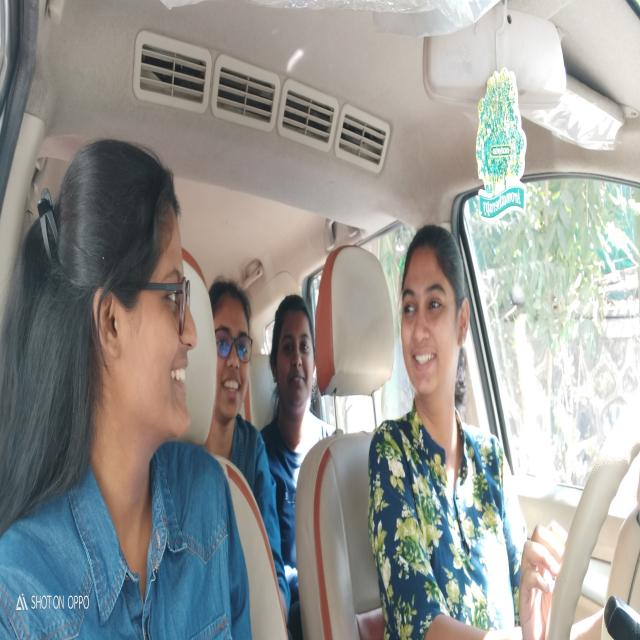LeftRight: (398, 228, 473, 403)
person: (83, 131, 198, 444), (272, 294, 321, 421), (213, 269, 254, 415)
talking: (166, 356, 193, 396), (412, 348, 438, 370)
